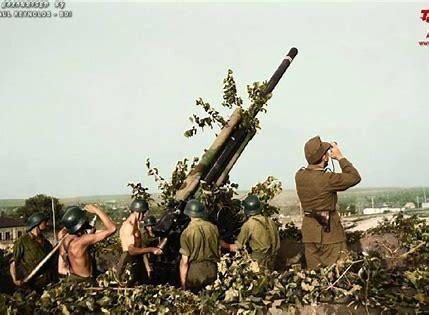MIL_SPG: (147, 48, 297, 248)
